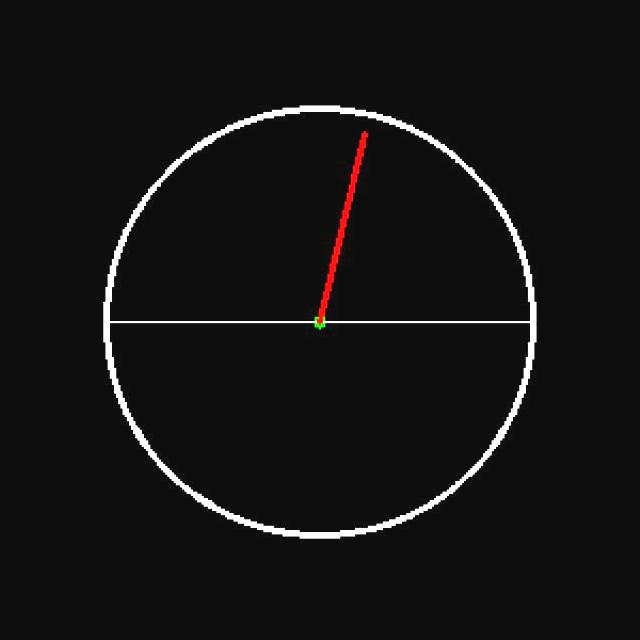Needle_Tip: (340, 117, 382, 164)
Needle_base: (284, 299, 357, 361)
